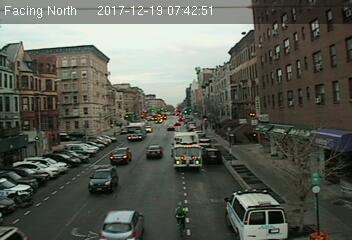bicycle: (172, 199, 189, 240)
car: (97, 207, 144, 240), (89, 165, 118, 192), (110, 147, 134, 162), (203, 147, 222, 163), (146, 145, 163, 157)
police: (223, 186, 289, 240)
truck: (172, 130, 202, 169)
